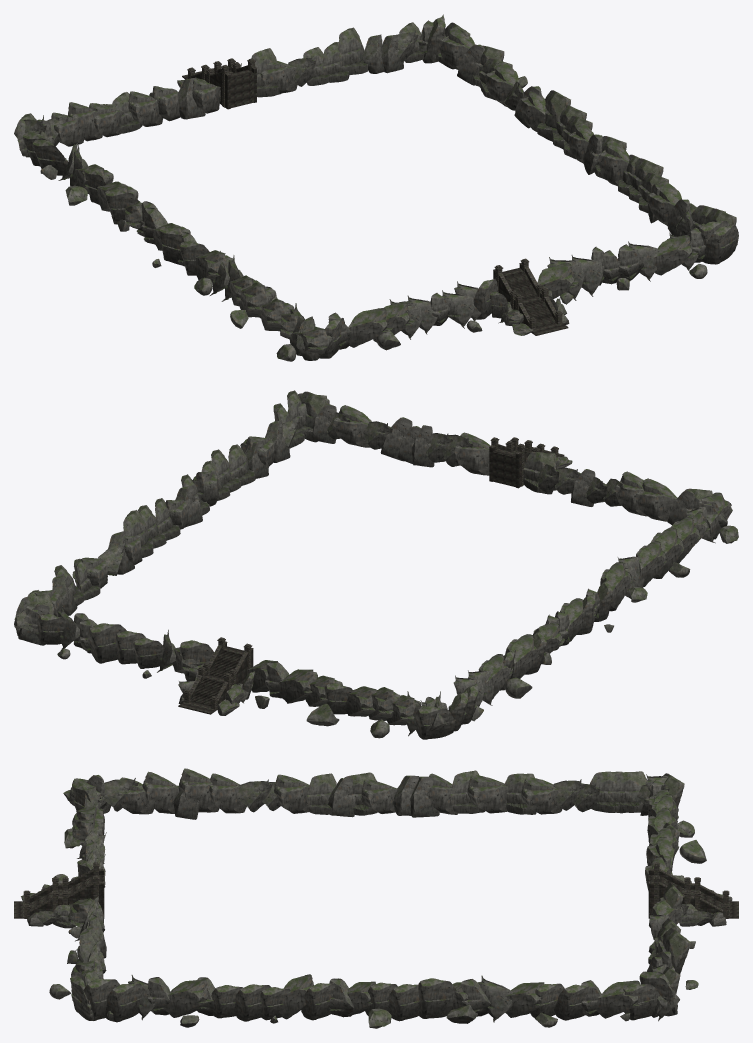
File: lot_base.glb
The picture shows the model from 3 angles, top to bottom: view 1: azimuth 30°, elevation 25°; view 2: azimuth 150°, elevation 25°; view 3: azimuth 270°, elevation 25°; orthographic projection. The views are drawn at different scales.
Visible parts, largest first — view 1: cliff_b (×21), cliff_d (×13), cliff_c (×5), stairs_back, stairs_front, cliff_a (×3); view 2: cliff_b (×19), cliff_d (×13), cliff_c (×6), stairs_front, stairs_back, cliff_a; view 3: cliff_d (×21), cliff_b (×19), cliff_c (×9), cliff_a (×5), stairs_back, stairs_front, boulder_b.
Part boxes in pixels (bbox=[...]): cliff_b (×21): bbox=[51, 27, 698, 355]; cliff_d (×13): bbox=[32, 14, 738, 319]; cliff_c (×5): bbox=[178, 34, 644, 280]; stairs_back: bbox=[493, 258, 568, 335]; stairs_front: bbox=[182, 58, 257, 109]; cliff_a (×3): bbox=[442, 241, 658, 328]; cliff_b (×19): bbox=[72, 405, 732, 725]; cliff_d (×13): bbox=[37, 391, 556, 739]; cliff_c (×6): bbox=[175, 404, 595, 527]; stairs_front: bbox=[178, 637, 253, 714]; stairs_back: bbox=[489, 437, 564, 488]; cliff_a: bbox=[363, 421, 392, 449]; cliff_d (×21): bbox=[70, 770, 690, 1022]; cliff_b (×19): bbox=[70, 768, 683, 1019]; cliff_c (×9): bbox=[76, 775, 601, 1017]; cliff_a (×5): bbox=[104, 778, 600, 1022]; stairs_back: bbox=[14, 862, 104, 918]; stairs_front: bbox=[648, 862, 738, 918]; boulder_b: bbox=[679, 840, 706, 863].
Bounding box in the file's own units: 122 × 11.51 × 159.
10 materials, 10 textured.
